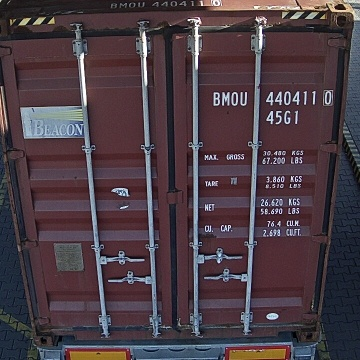serial_id: (213, 90, 333, 105)
